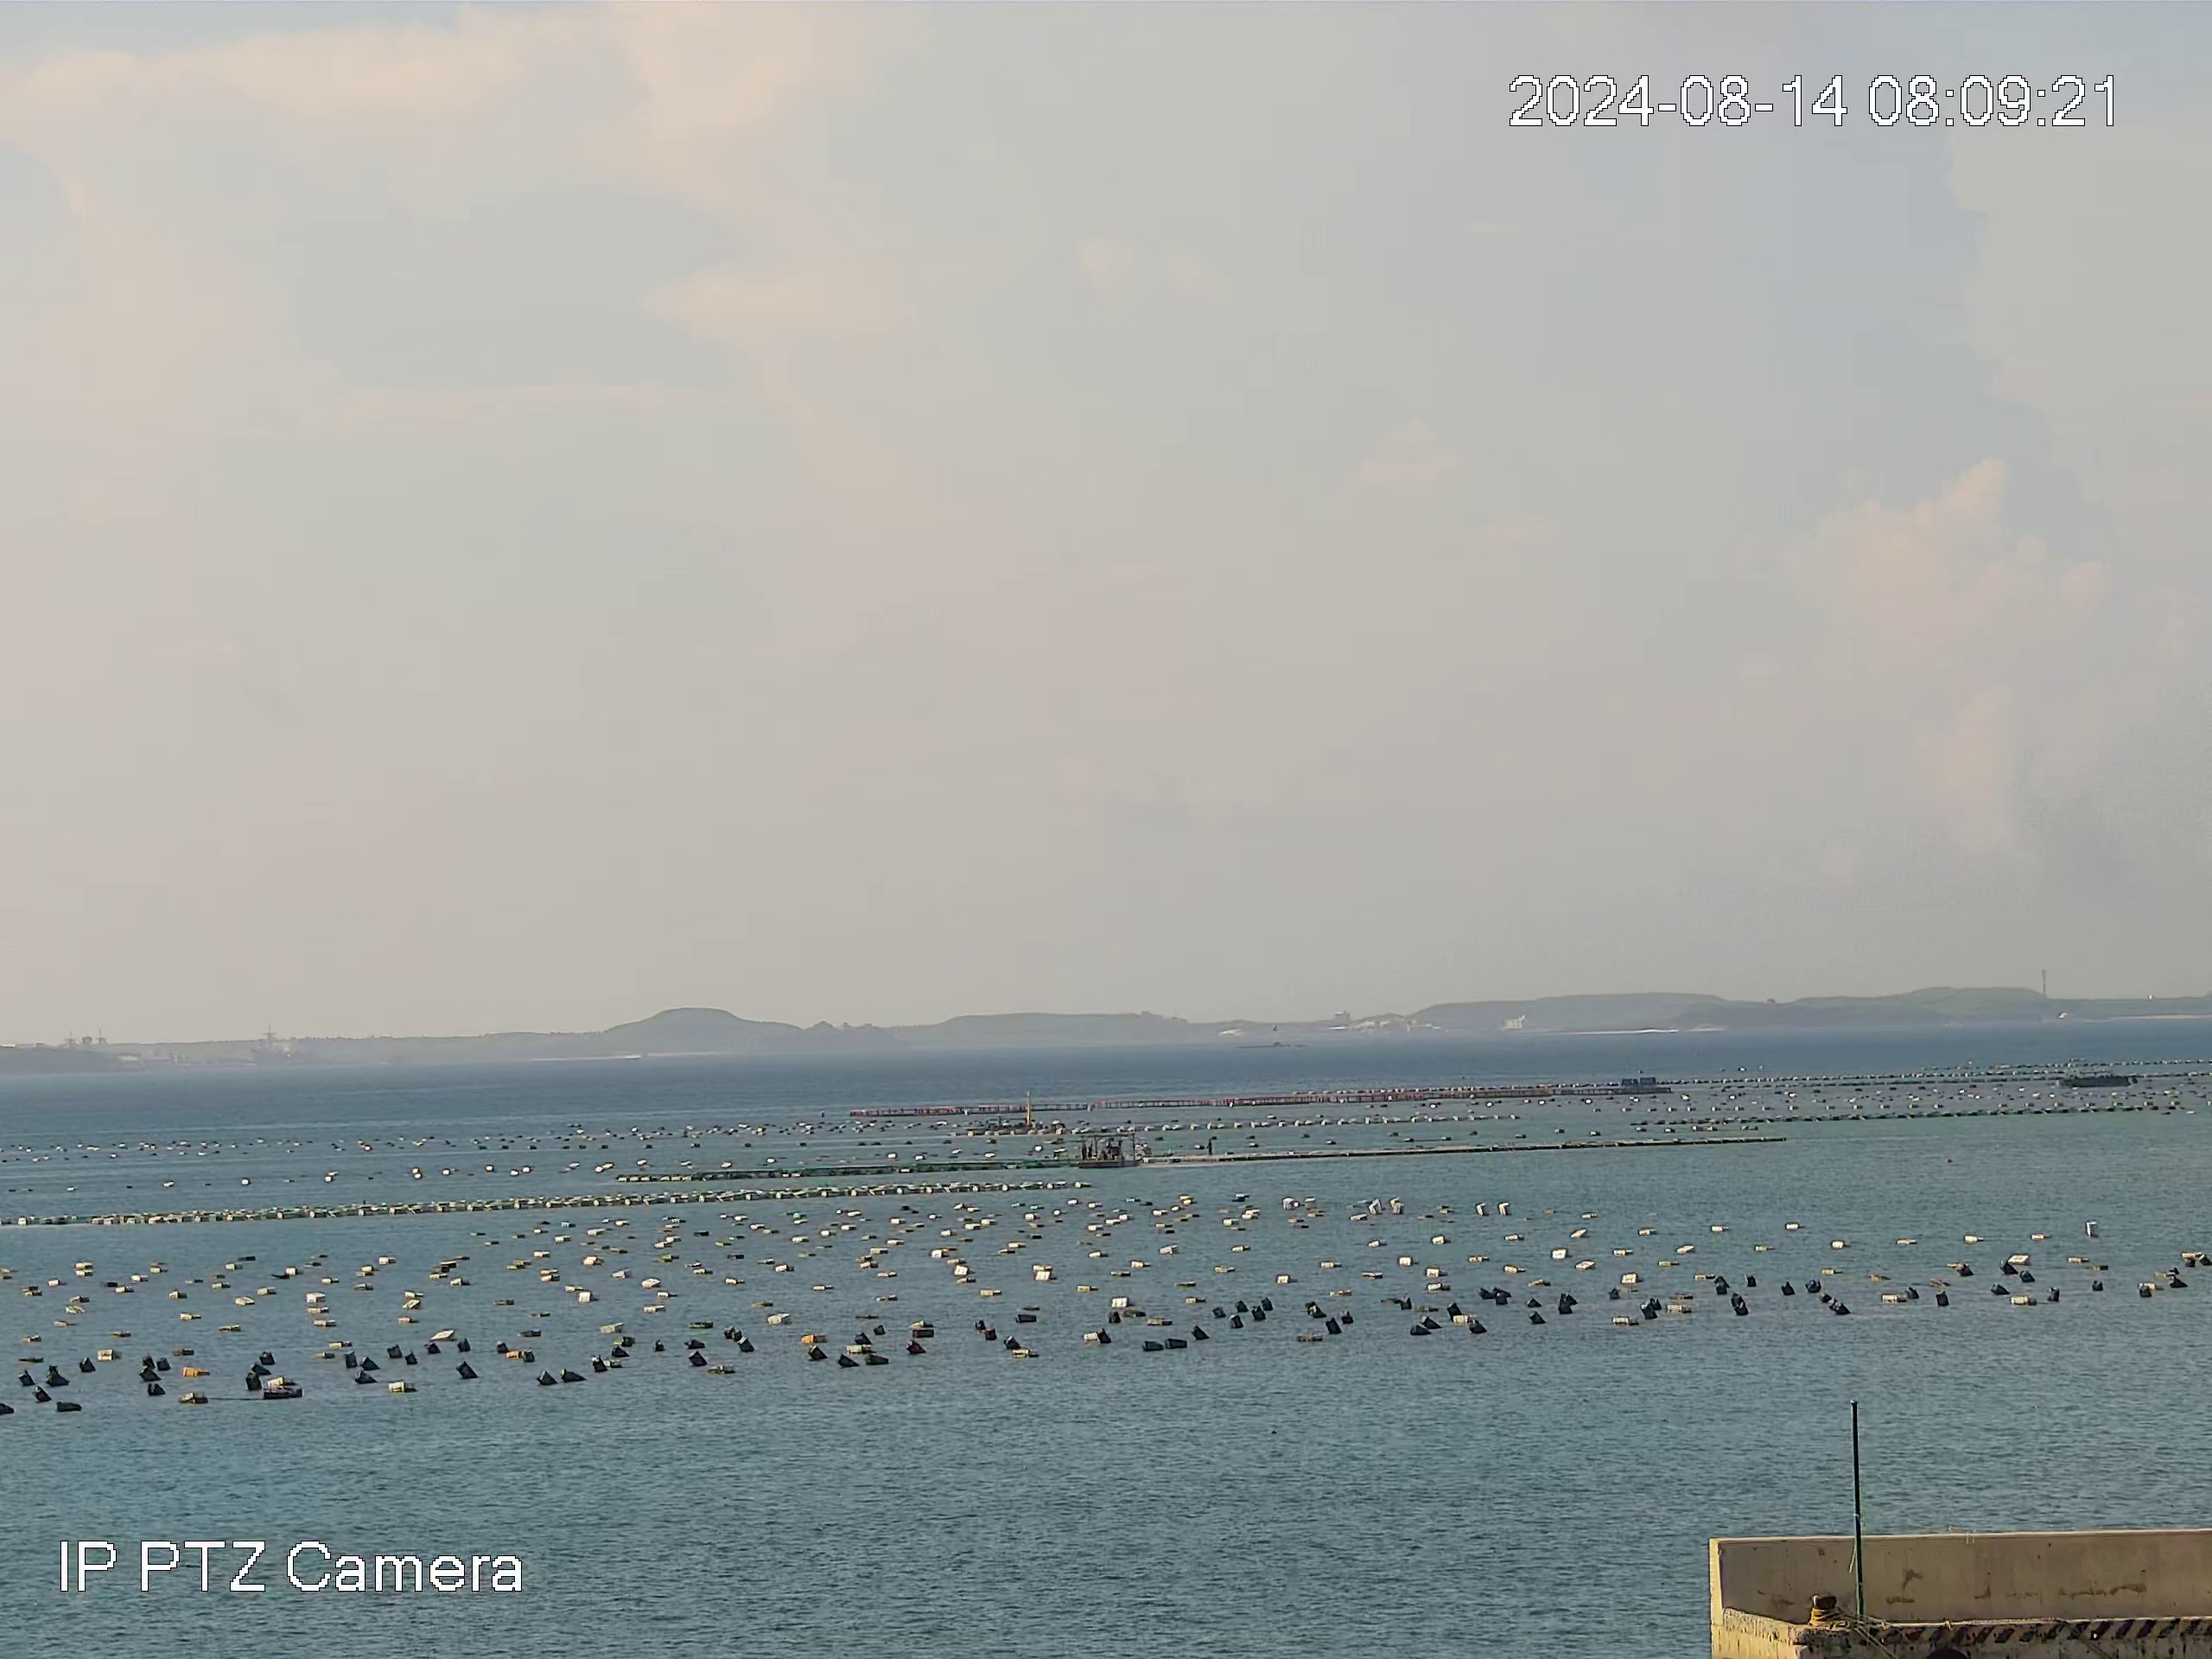boat: (1078, 1136, 1149, 1171), (2052, 1067, 2139, 1092)
